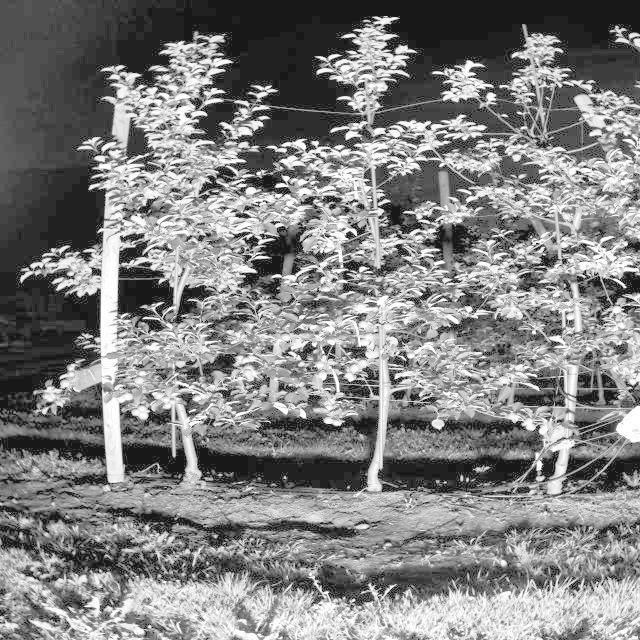Tree: (277, 19, 456, 491), (125, 43, 260, 482), (500, 34, 625, 495)
